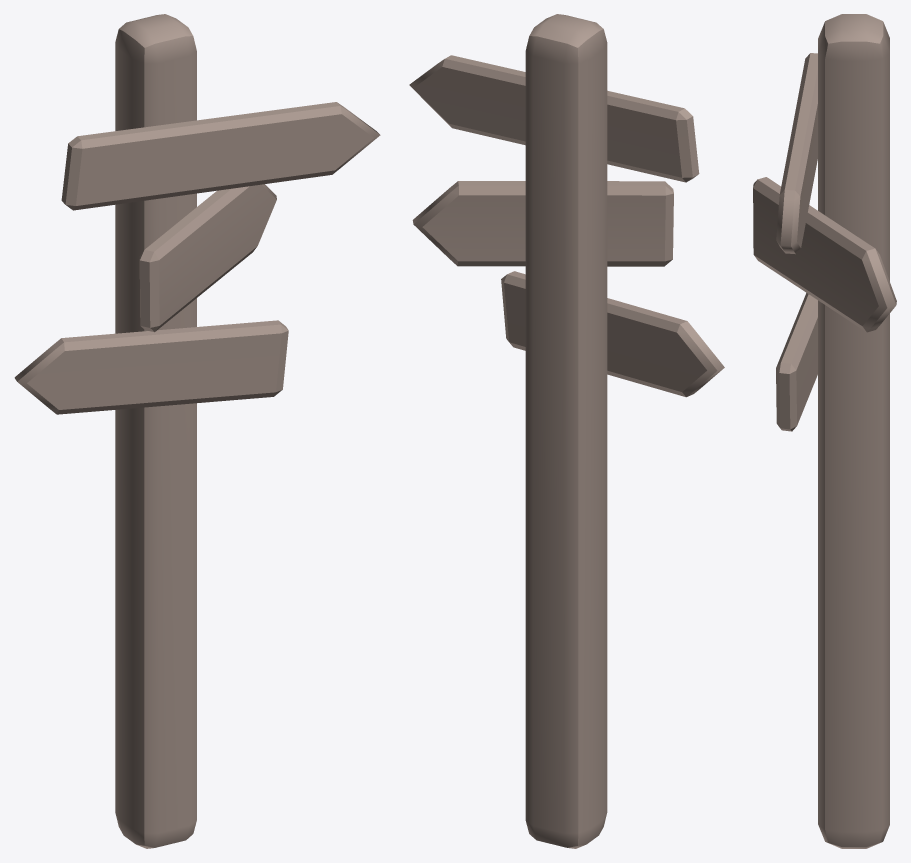
Rendered from SM_RoadSign.fbx.
3 renders of one model, left to right at view 1: azimuth 30°, elevation 25°; view 2: azimuth 150°, elevation 25°; view 3: azimuth 270°, elevation 25°, orthographic.
Visible parts, largest first — view 1: SM_RoadSign; view 2: SM_RoadSign; view 3: SM_RoadSign.
Boxes of the visible parts, x1=… form: SM_RoadSign: x1=14, y1=14, x2=380, y2=848; SM_RoadSign: x1=409, y1=14, x2=724, y2=848; SM_RoadSign: x1=753, y1=14, x2=896, y2=848.
Size of the model in its own units: 123 by 286 by 45.44.
